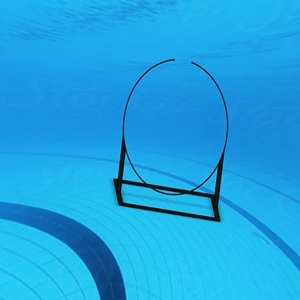circle: (110, 53, 232, 229)
